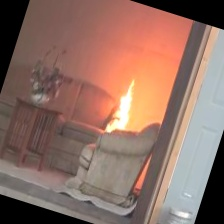fire: (103, 67, 160, 142)
